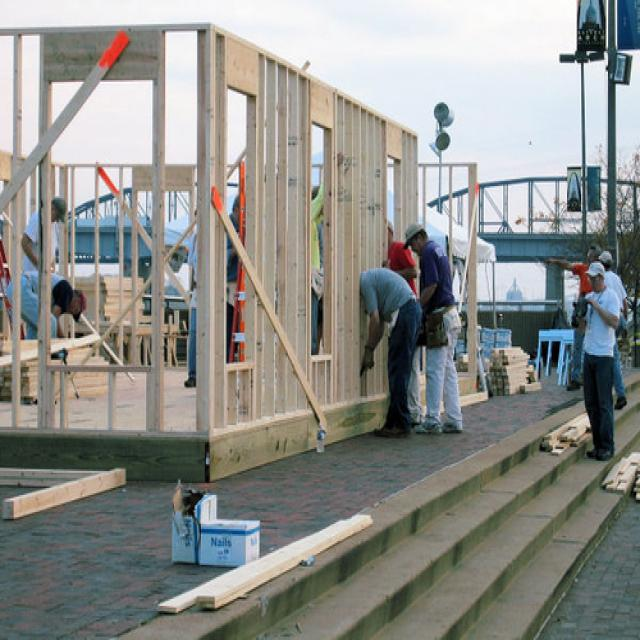person: (405, 218, 465, 438), (360, 267, 422, 440), (577, 260, 619, 462), (548, 242, 598, 395), (6, 268, 87, 343), (596, 245, 631, 414), (18, 194, 69, 269), (308, 184, 325, 356), (386, 218, 417, 300), (185, 206, 198, 393)
